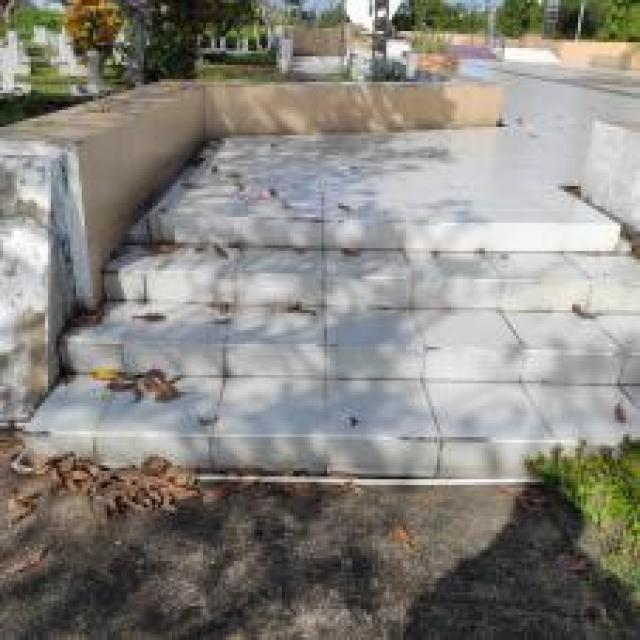upstair: (41, 182, 638, 495)
